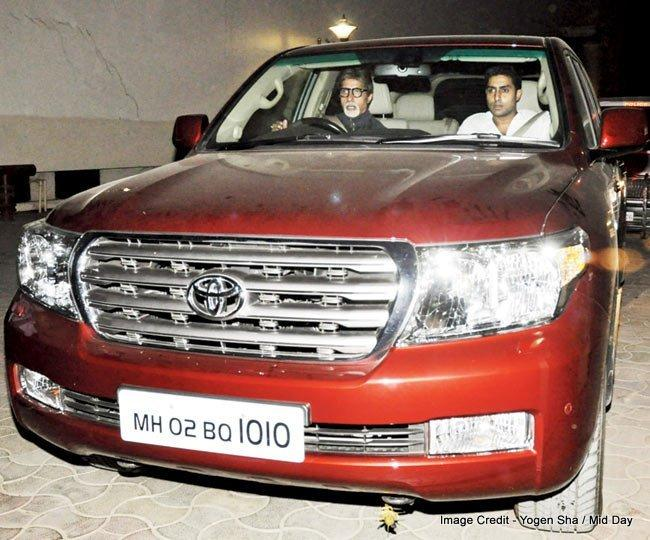Liscence Plate: (118, 392, 305, 462)
